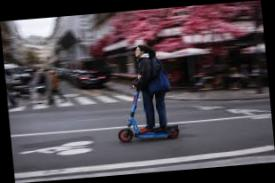multiple: (109, 38, 183, 147)
